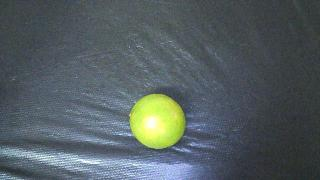LOCAL: (129, 94, 186, 149)
